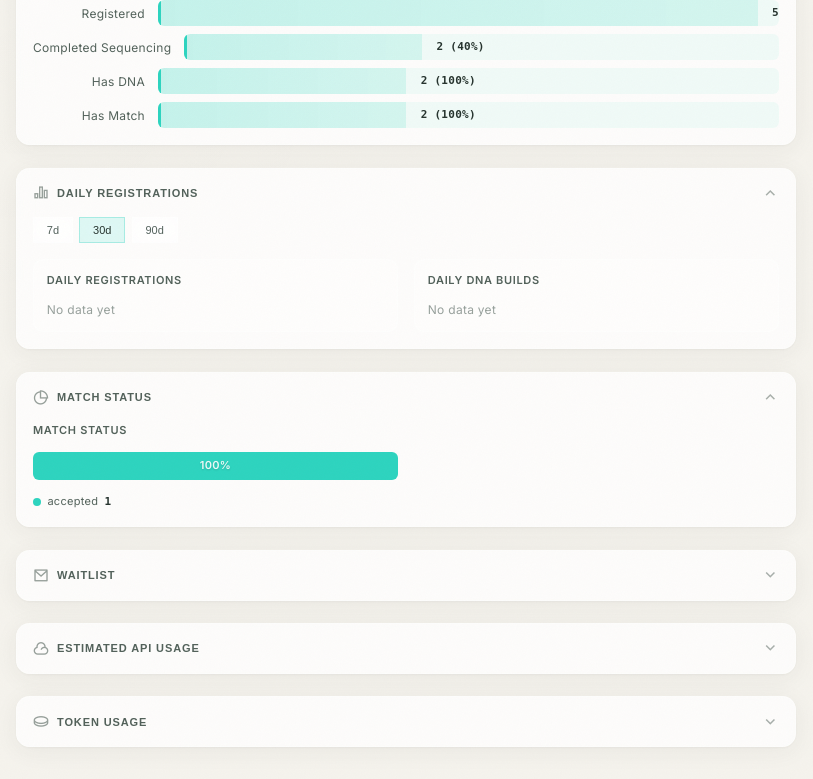
AdminPage › renders the waitlist section with entries from the admin API
(page scrolled)
Step 1. Click the button "Waitlist" → [86, 575], box [17,551,795,600]
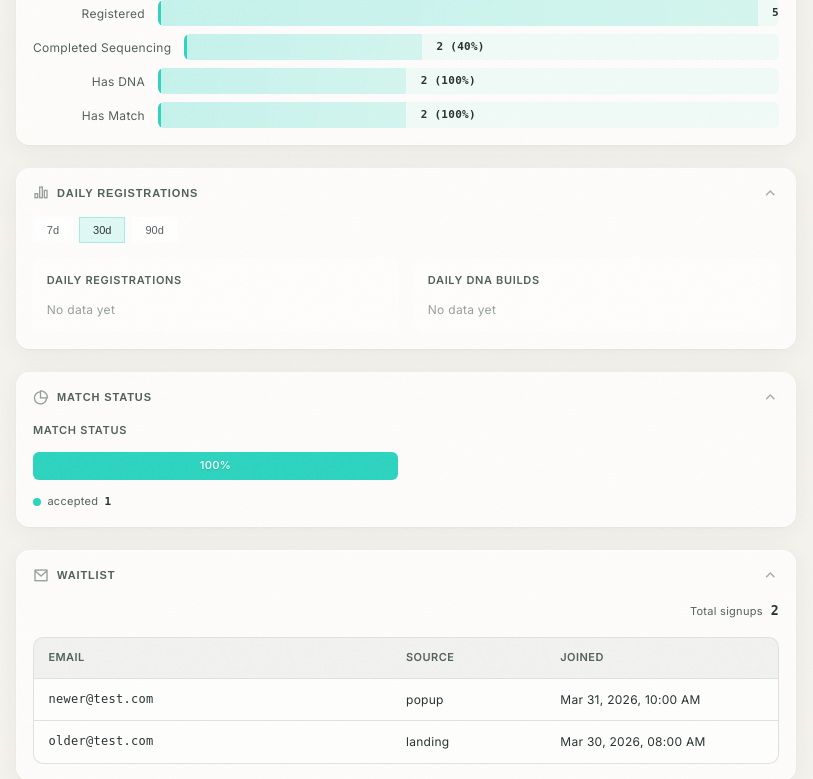
Now the text "newer@test.com" is shown, box [48,692,154,706]
Now the text "popup" is shown, box [406,692,444,707]
Now the text "Total signups" is shown, box [690,603,763,620]
